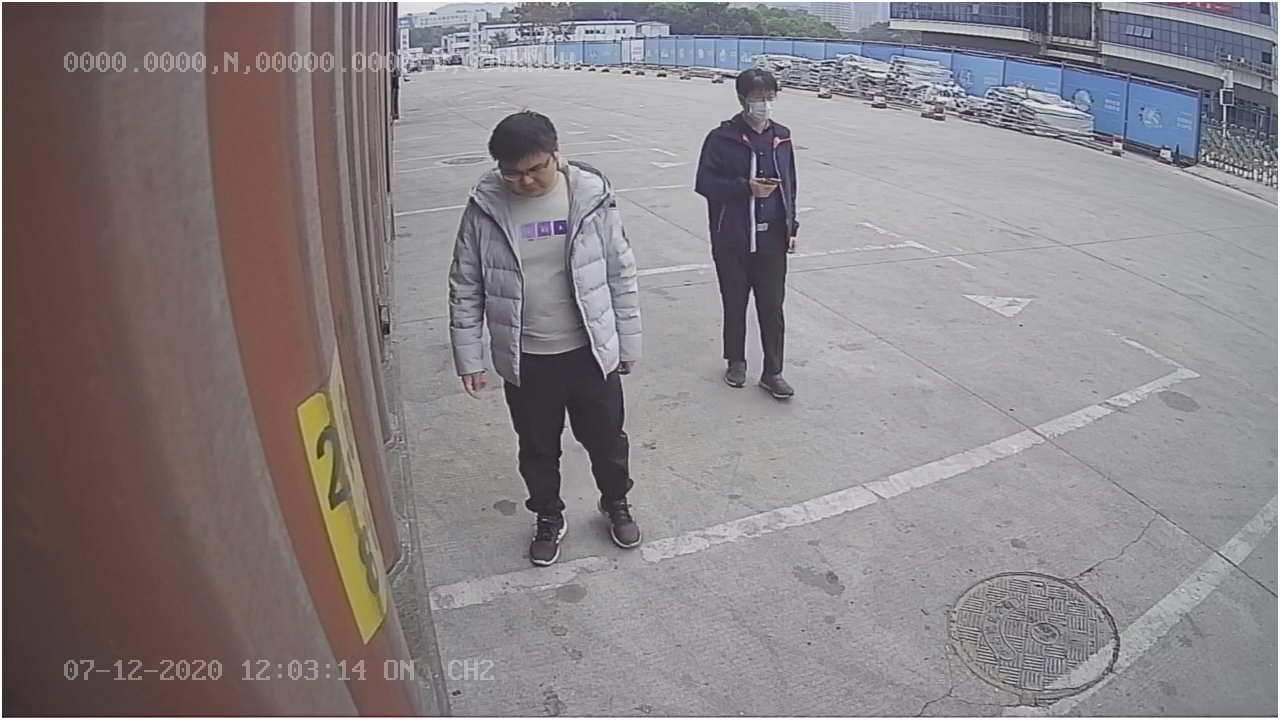person: (449, 113, 652, 567), (692, 65, 807, 404)
